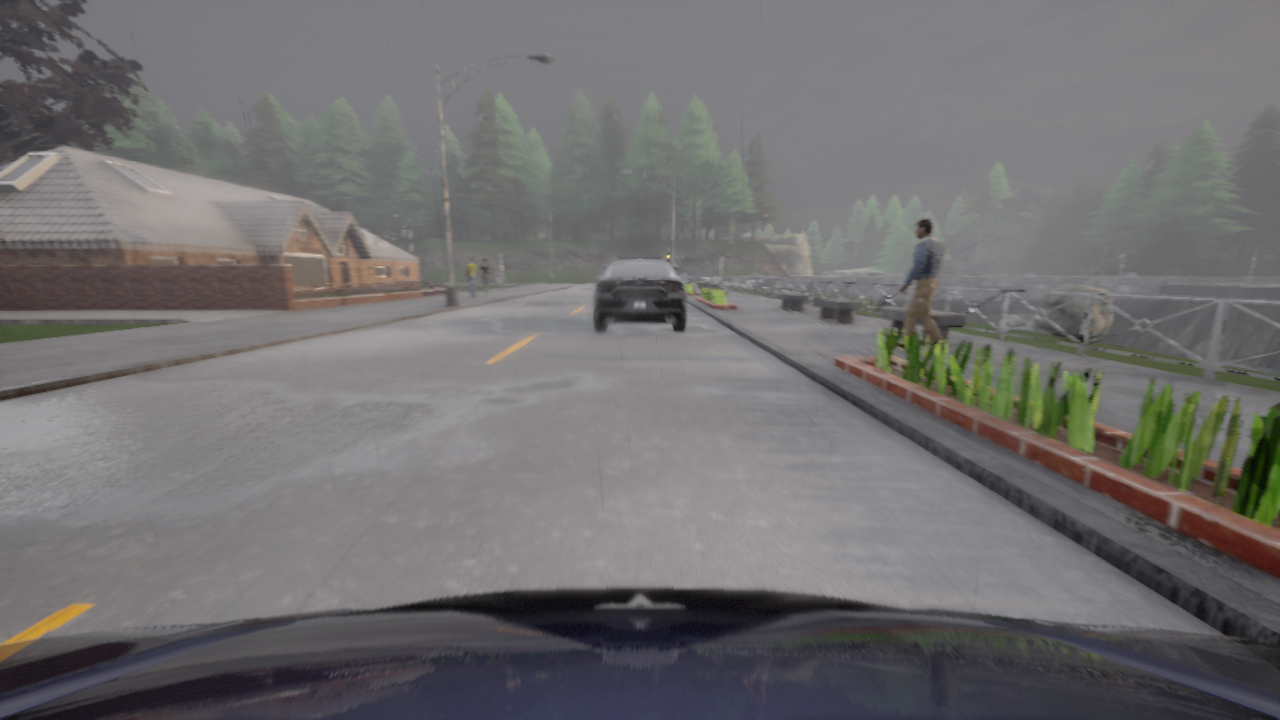cyclist: (0, 588, 1279, 719), (594, 255, 685, 330), (678, 271, 719, 283), (476, 271, 505, 283), (938, 271, 963, 276), (420, 274, 422, 281)
pedestrian: (897, 219, 944, 354), (465, 258, 477, 297), (479, 259, 491, 296)
